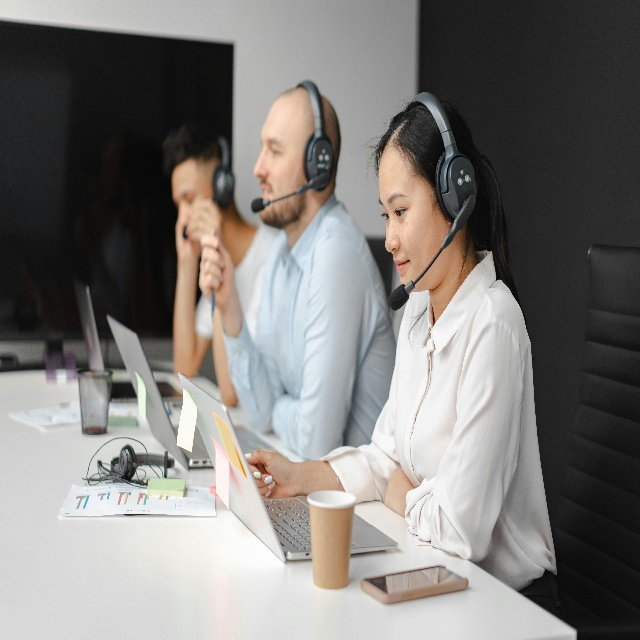Sin_guantes: (198, 229, 235, 313), (244, 449, 294, 499), (186, 197, 224, 243), (384, 465, 415, 517)
